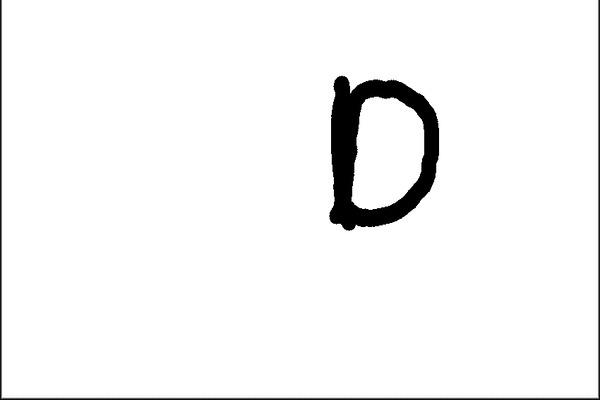D: (319, 67, 442, 245)
